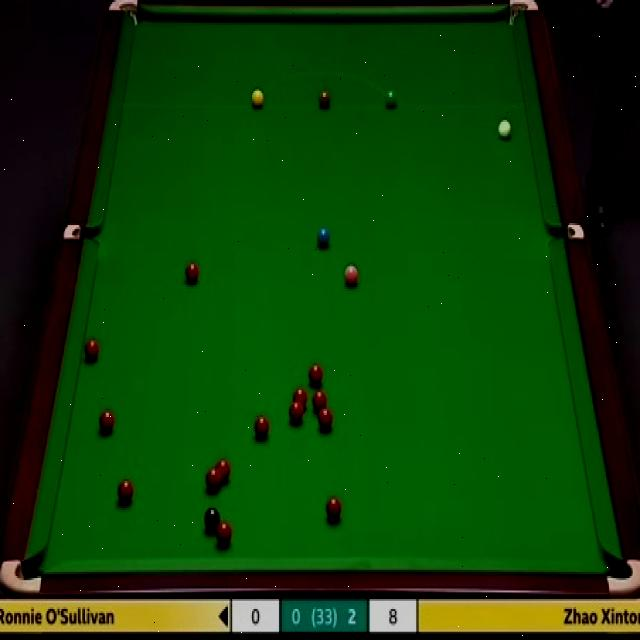black-ball: (204, 506, 223, 530)
blue-ball: (316, 225, 331, 251)
brown-ball: (318, 89, 331, 108)
green-ball: (383, 90, 397, 108)
pink-ball: (344, 266, 359, 289)
red-ball: (324, 493, 343, 524), (82, 338, 102, 365), (252, 412, 270, 442), (114, 477, 133, 504), (96, 406, 114, 434), (306, 363, 326, 386), (292, 384, 309, 410), (205, 466, 222, 491), (288, 401, 305, 425), (217, 459, 233, 482), (218, 522, 232, 548), (315, 393, 330, 417), (184, 264, 200, 283), (318, 407, 332, 428)
white-ball: (497, 119, 511, 139)
yellow-ball: (250, 89, 264, 108)
